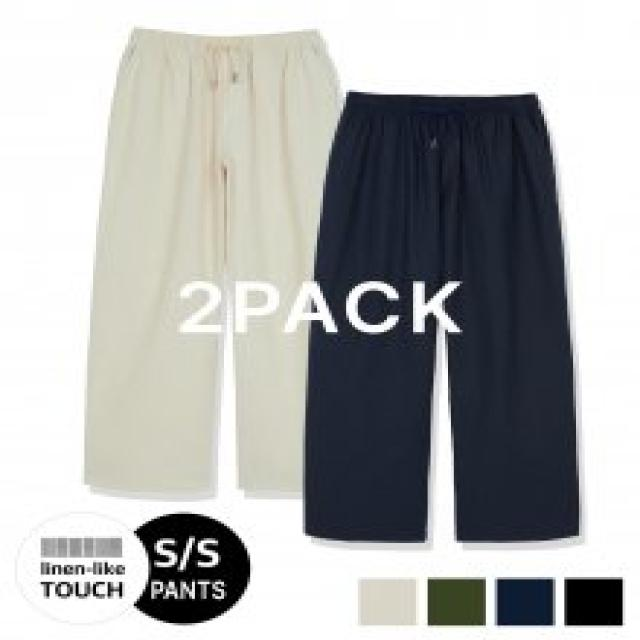long-pants: (305, 95, 588, 553), (87, 29, 346, 504)
